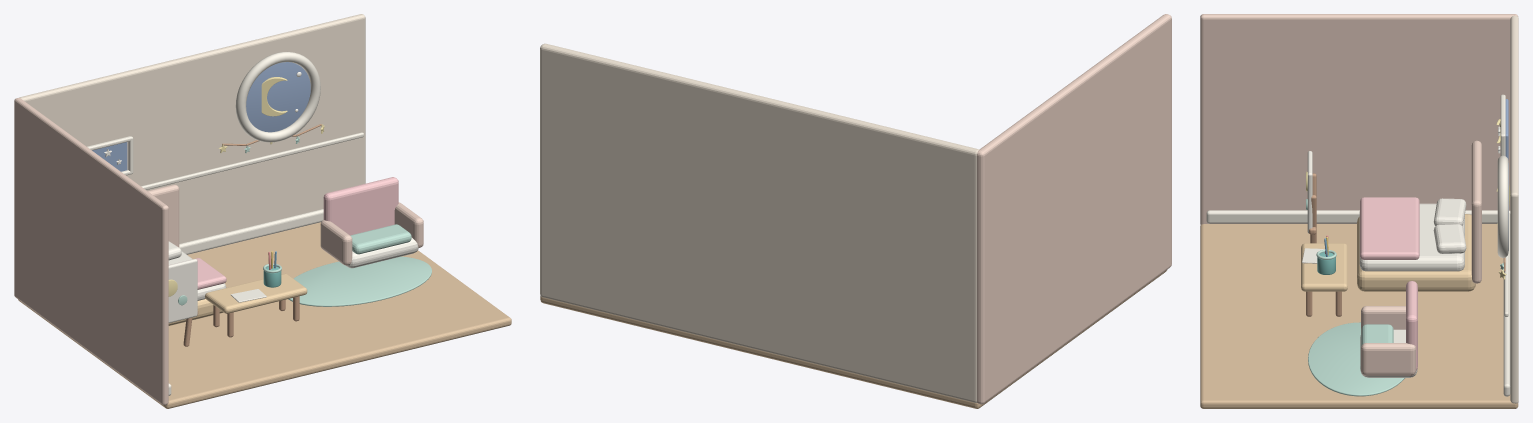
The model's file is MoonlightHeroRoom.fbx.
The picture shows the model from 3 angles, left to right: view 1: azimuth 30°, elevation 25°; view 2: azimuth 150°, elevation 25°; view 3: azimuth 270°, elevation 25°; orthographic projection. The views are drawn at different scales.
Visible parts, largest first — view 1: BackWall, LeftWall, Floor, MintRug, ChairBack, PortholeSky, PortholeFrame, BackBaseboard, ArtTableTop, EaselCanvas, BackChairRail, ChairCushion (+7 smaller); view 2: BackWall, LeftWall, Floor; view 3: LeftWall, Floor, Blanket, MintRug, BackWall, BedFrame, Mattress, LeftBaseboard, ChairArmRight, ArtTableTop, Headboard, PortholeFrame (+9 smaller).
Part boxes in pixels (x1,y1,x2,y2): BackWall: [19, 14, 365, 250]; LeftWall: [14, 98, 168, 405]; Floor: [18, 222, 511, 408]; MintRug: [288, 256, 431, 306]; ChairBack: [323, 177, 398, 235]; PortholeSky: [246, 62, 310, 132]; PortholeFrame: [235, 51, 320, 142]; BackBaseboard: [179, 209, 323, 254]; ArtTableTop: [205, 273, 307, 313]; EaselCanvas: [168, 259, 197, 322]; BackChairRail: [141, 132, 363, 189]; ChairCushion: [350, 224, 411, 254]; BackWall: [540, 43, 979, 402]; LeftWall: [977, 14, 1171, 404]; Floor: [540, 270, 1166, 408]; LeftWall: [1200, 14, 1518, 224]; Floor: [1200, 224, 1518, 408]; Blanket: [1360, 197, 1419, 259]; MintRug: [1308, 322, 1404, 396]; BackWall: [1510, 15, 1518, 403]; BedFrame: [1357, 214, 1475, 291]; Mattress: [1359, 203, 1464, 271]; LeftBaseboard: [1206, 210, 1510, 223]; ChairArmRight: [1361, 343, 1415, 375]; ArtTableTop: [1301, 243, 1347, 291]; Headboard: [1471, 140, 1481, 283]; PortholeFrame: [1497, 155, 1508, 257].
Size of the model in its own units: 10.1 by 5.62 by 7.51.
